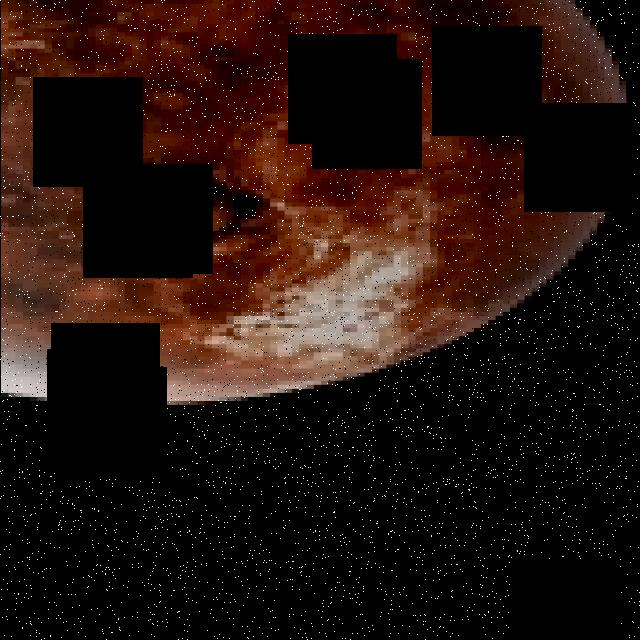Venus: (0, 0, 632, 405)
